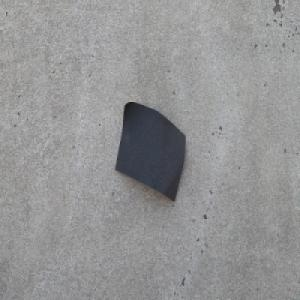PaintChip: (114, 99, 186, 203)
